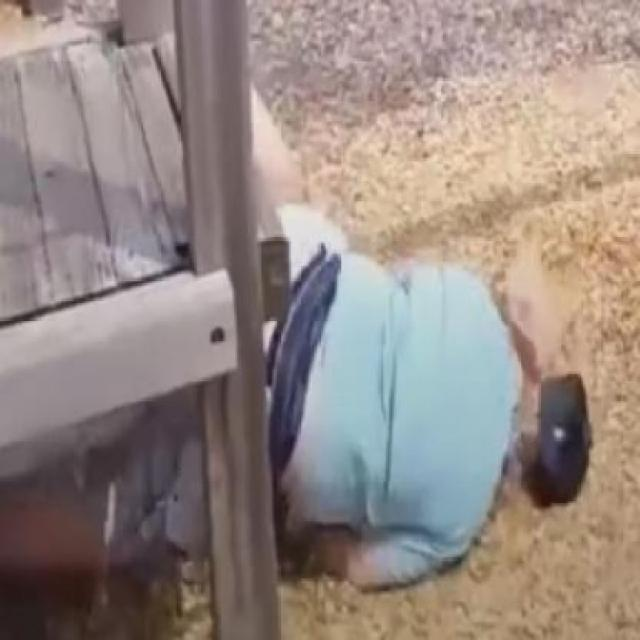fall: (264, 204, 601, 590)
